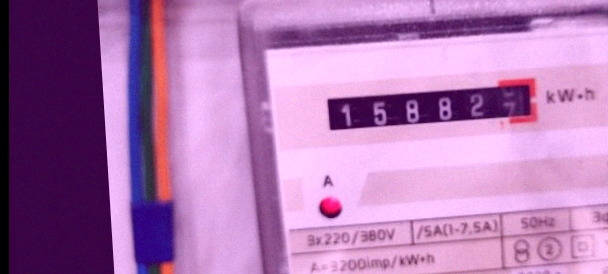1: (339, 102, 355, 127)
2: (469, 91, 486, 116)
5: (371, 98, 389, 125)
7: (502, 97, 518, 117)
8: (404, 97, 422, 124), (437, 94, 454, 120)
screen: (312, 69, 549, 146)
